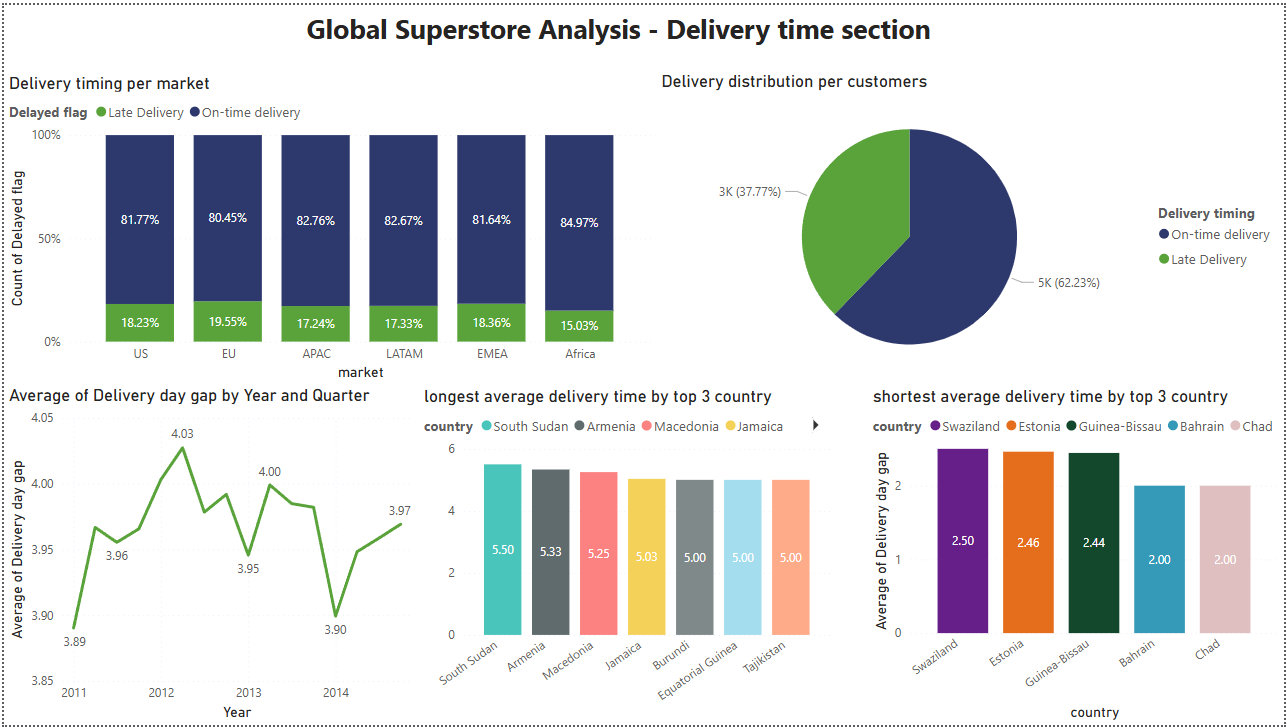

Layout of this report page (visuals, bound fields, positions):
{"tool":"powerbi","page":{"name":"Delivery time analysis","canvas":[1280,720],"ordinal":3},"visuals":[{"type":"textbox","box":[107.5,0,1014.3,45.7],"z":0},{"type":"pieChart","title":"Delivery distribution per customers","fields":{"Category":["public superstore.Delayed flag"],"Y":["public superstore.count of Customer ID"]},"box":[652.3,66.7,627.6,312.6],"z":1000},{"type":"hundredPercentStackedColumnChart","title":"Delivery timing per market","fields":{"Series":["public superstore.Delayed flag"],"Y":["CountNonNull(public superstore.Delayed flag)"],"Category":["public superstore.market"]},"box":[0,67.2,651.8,312.9],"z":2000},{"type":"lineChart","fields":{"Y":["Avg(public superstore.Delivery day gap)"],"Category":["public superstore.order_date.Variation.Date Hierarchy.Year","public superstore.order_date.Variation.Date Hierarchy.Quarter"]},"box":[0,380,415,340],"z":3000},{"type":"columnChart","title":"longest average delivery time by top 3 country","fields":{"Category":["public superstore.country"],"Y":["Avg(public superstore.Delivery day gap)"],"Series":["public superstore.country"]},"box":[415,381.2,416.2,338.8],"z":4000},{"type":"columnChart","title":"shortest average delivery time by top 3 country","fields":{"Category":["public superstore.country"],"Y":["Avg(public superstore.Delivery day gap)"],"Series":["public superstore.country"]},"box":[863.8,381.2,416.2,338.8],"z":5000}]}

Visuals, with their boxes in screenshot pixels (x1, y1, x2, y2), scaled from the page's 1280x720 canvas onto the 1287x727 screenshot:
textbox: {"x1": 108, "y1": 0, "x2": 1128, "y2": 46}
"Delivery distribution per customers" pieChart: {"x1": 656, "y1": 67, "x2": 1286, "y2": 383}
"Delivery timing per market" hundredPercentStackedColumnChart: {"x1": 0, "y1": 68, "x2": 655, "y2": 384}
lineChart - Avg(public superstore.Delivery day gap) x public superstore.order_date.Variation.Date Hierarchy.Year: {"x1": 0, "y1": 384, "x2": 417, "y2": 726}
"longest average delivery time by top 3 country" columnChart: {"x1": 417, "y1": 385, "x2": 836, "y2": 726}
"shortest average delivery time by top 3 country" columnChart: {"x1": 869, "y1": 385, "x2": 1286, "y2": 726}
